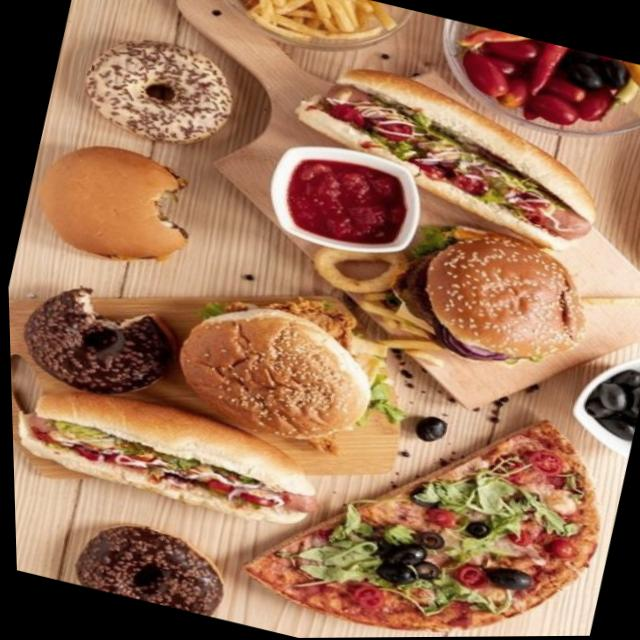burger: (369, 209, 601, 387), (158, 279, 386, 457), (26, 131, 206, 278)
pizza: (223, 351, 625, 639)
